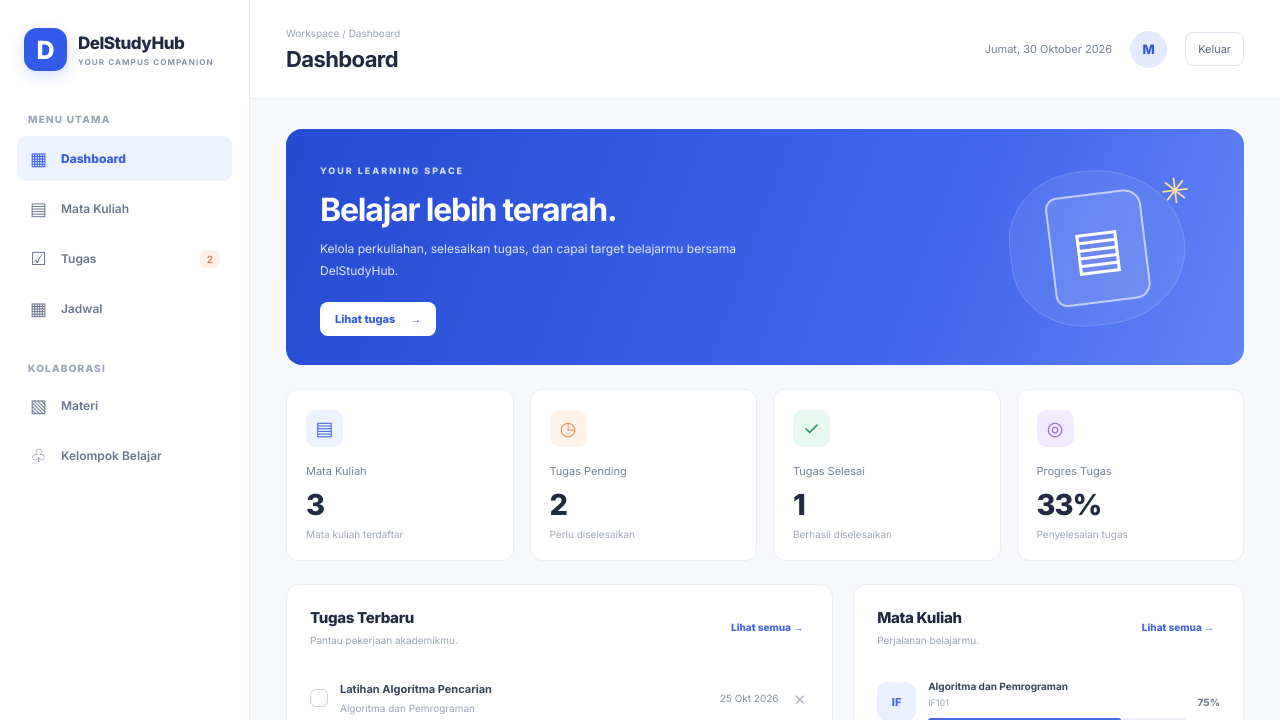
it: Pengujian DelStudyHub › menambahkan materi dengan tautan yang valid
Click the button "▧ Materi": (124, 406) [17,383,232,428]
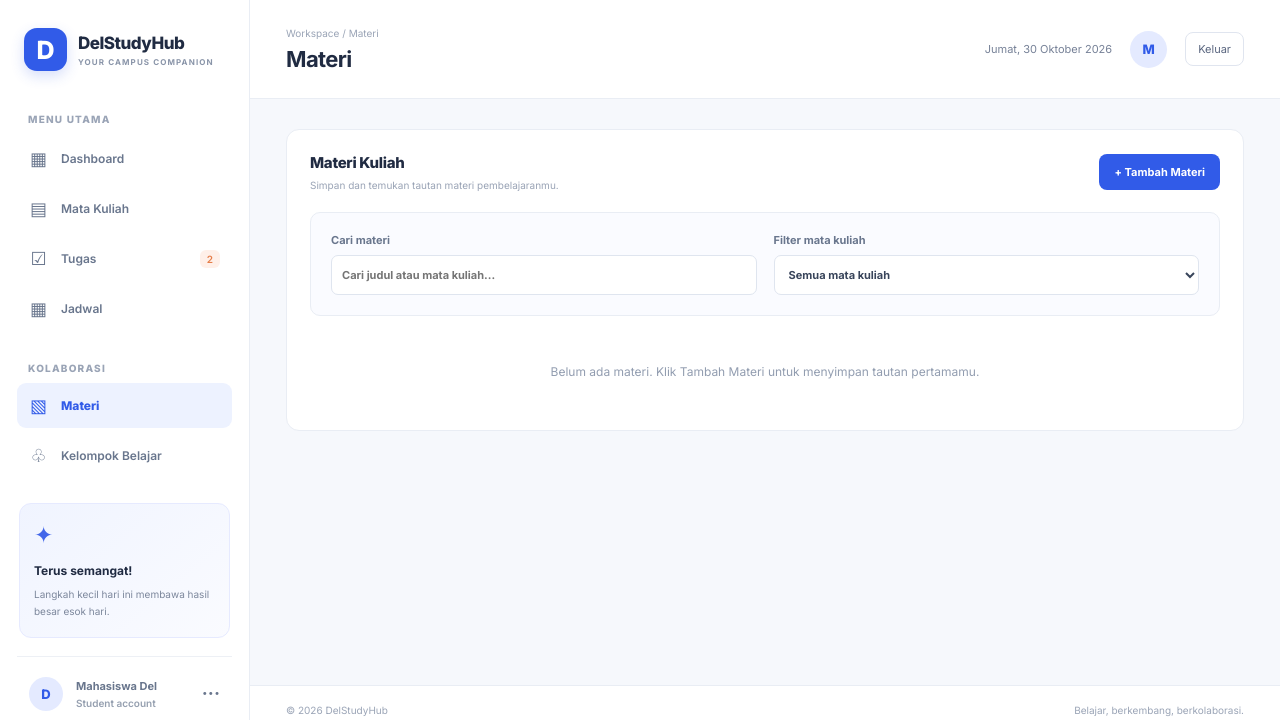
Click the button "+ Tambah Materi": (1160, 172) [1100,154,1220,190]
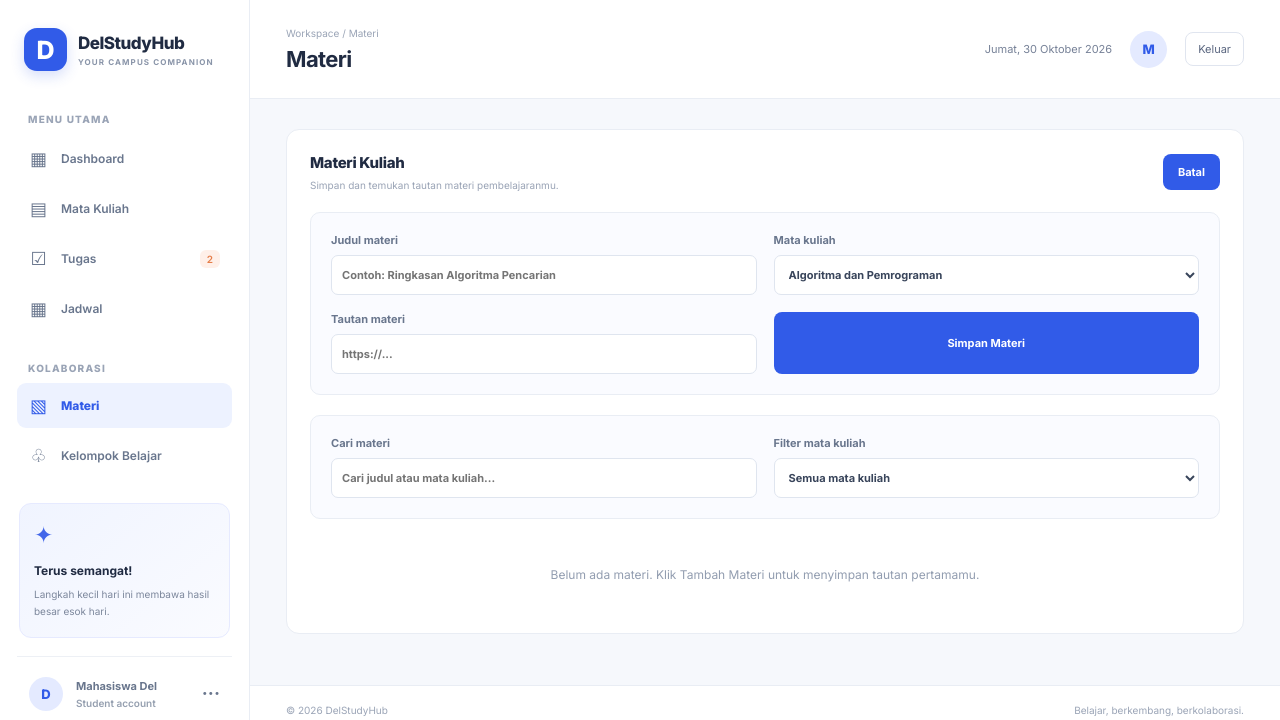
In the field labelled "Judul materi": (544, 275) [331,255,756,295], type "Materi Pengujian"
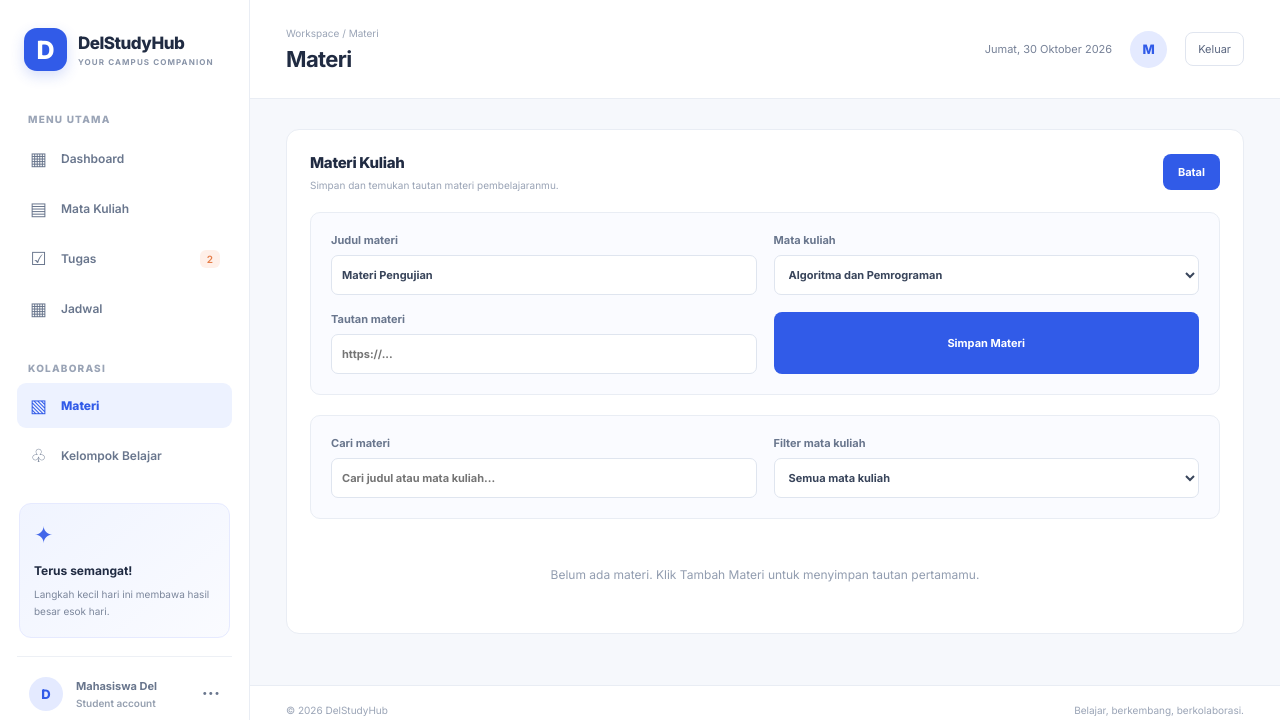
In the field labelled "Tautan materi": (544, 354) [331,334,756,374], type "https://example.com/materi"
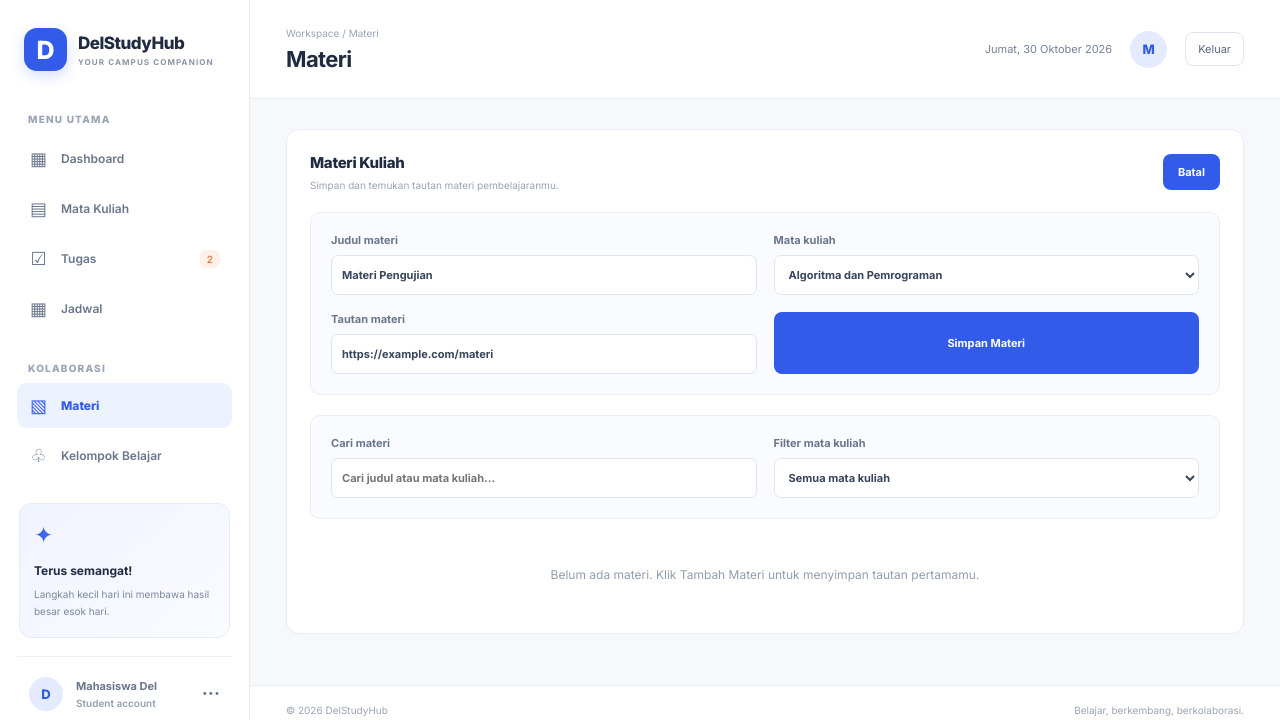
Click the button "Simpan Materi": (986, 343) [774,312,1199,374]
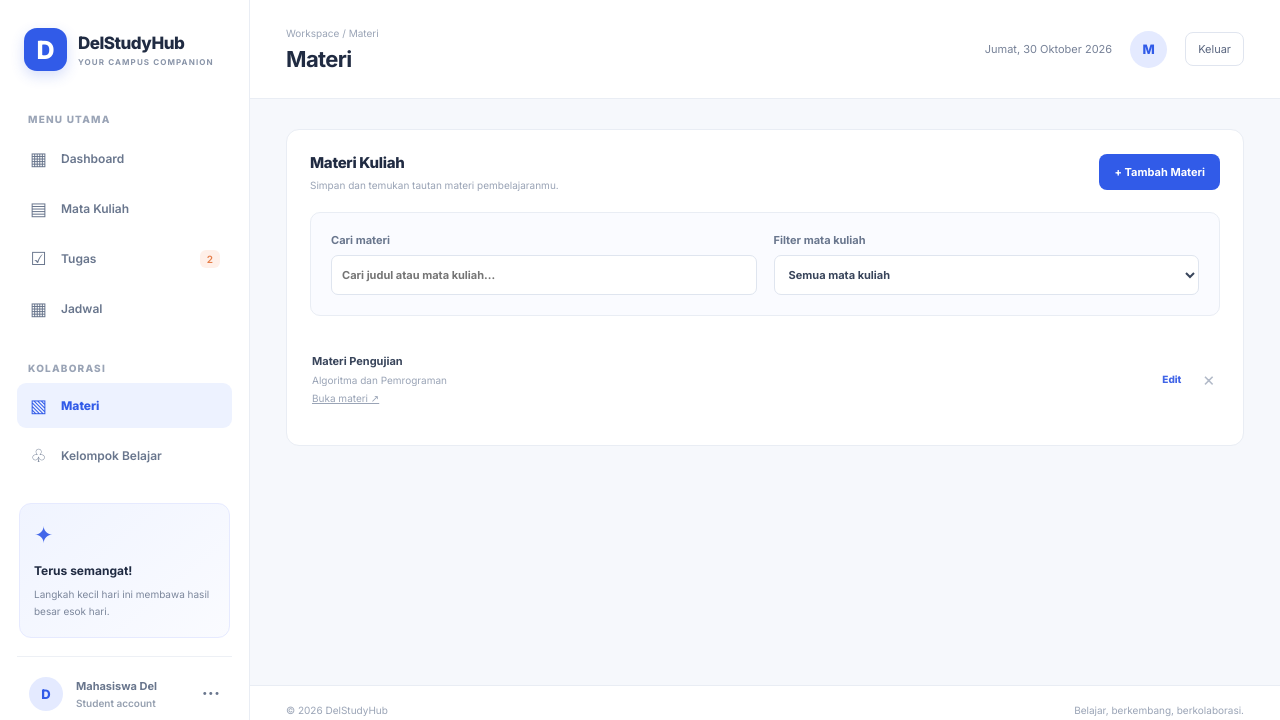
expect the text "Materi Pengujian" is shown: met, box [312,354,403,368]
